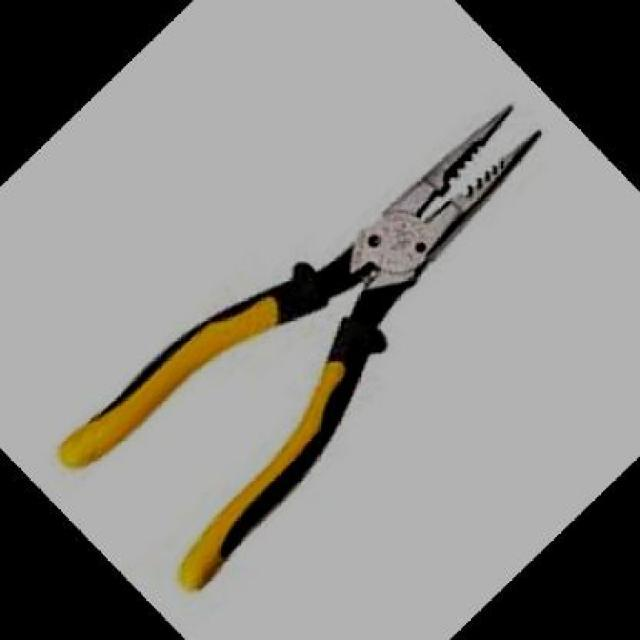pliers: (24, 46, 613, 626)
